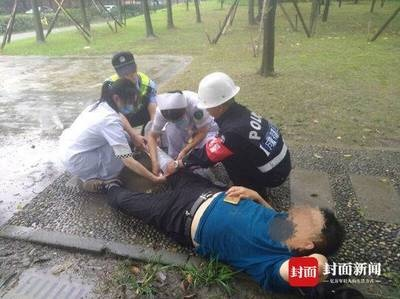falling: (89, 158, 349, 295)
